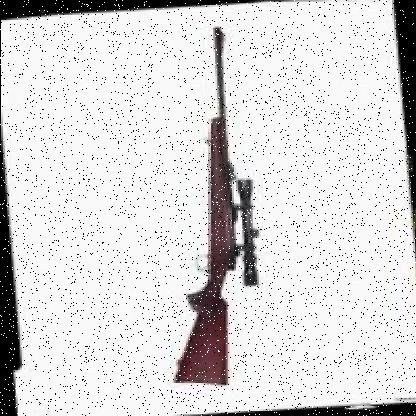rifle: (133, 21, 279, 394)
